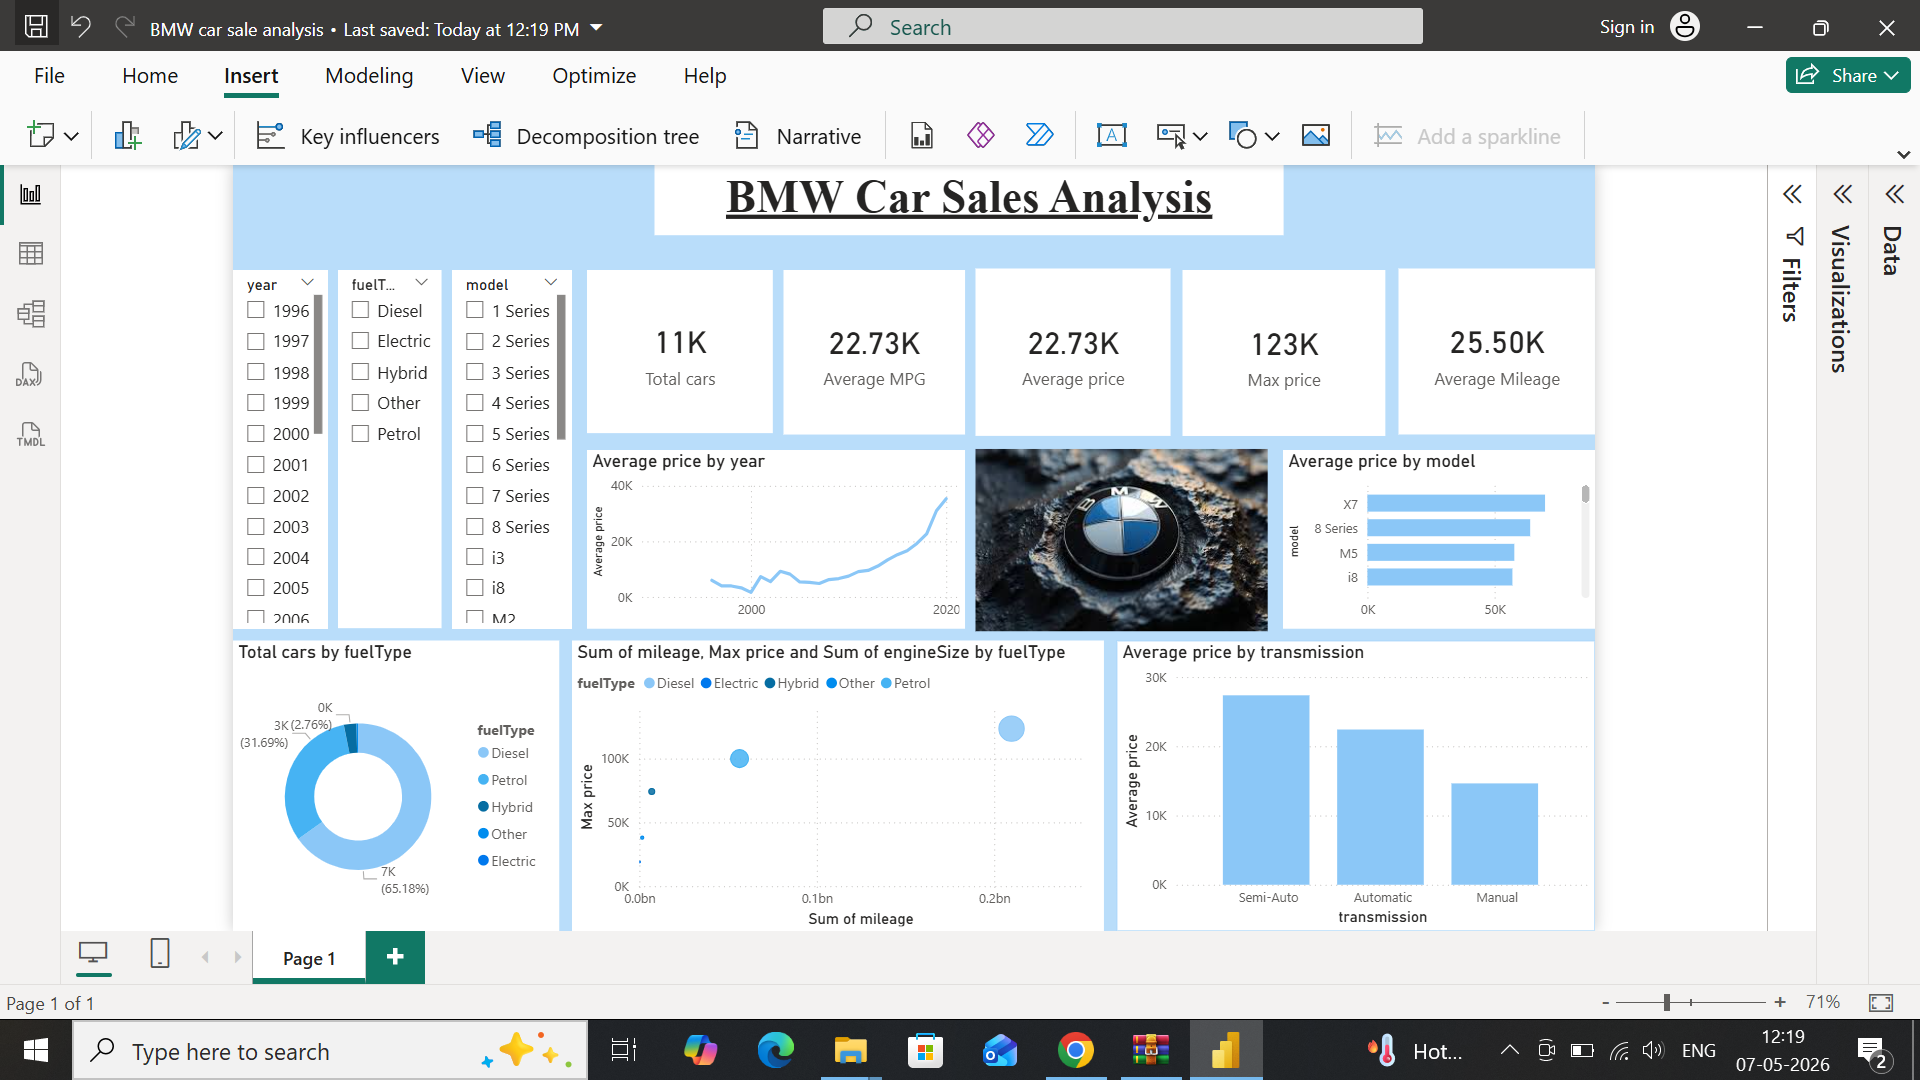

This screenshot's page, from the dashboard's own definition file:
{"tool":"powerbi","page":{"name":"Page 1","canvas":[1280,720],"ordinal":0},"visuals":[{"type":"card","fields":{"Values":["bmw (1).Total cars"]},"box":[332.3,98.8,174.8,153.3],"z":0},{"type":"card","fields":{"Values":["bmw (1).Average price"]},"box":[697.6,97.4,183.3,157.6],"z":1000},{"type":"card","fields":{"Values":["bmw (1).Average Mileage"]},"box":[1095.8,97.4,184.8,156.1],"z":2000},{"type":"card","fields":{"Values":["bmw (1).Average MPG"]},"box":[517.1,98.8,170.5,154.7],"z":3000},{"type":"card","fields":{"Values":["bmw (1).Max price"]},"box":[892.4,98.8,190.5,156.1],"z":4000},{"type":"clusteredBarChart","fields":{"Category":["bmw (1).model"],"Y":["bmw (1).Average price"]},"box":[999.4,268,280.1,205.9],"z":5000},{"type":"donutChart","fields":{"Y":["bmw (1).Total cars"],"Category":["bmw (1).fuelType"]},"box":[0,473.9,305.9,246.8],"z":6000},{"type":"columnChart","fields":{"Category":["bmw (1).transmission"],"Y":["bmw (1).Average price"]},"box":[831.3,486.1,449.7,234.7],"z":7000},{"type":"scatterChart","fields":{"X":["Sum(bmw (1).mileage)"],"Y":["bmw (1).Max price"],"Size":["Sum(bmw (1).engineSize)"],"Series":["bmw (1).fuelType"]},"box":[318,486.1,499.7,234.7],"z":8000},{"type":"lineChart","fields":{"Category":["bmw (1).year"],"Y":["bmw (1).Average price"]},"box":[332.7,267.9,345.4,205.9],"z":9000},{"type":"slicer","fields":{"Values":["bmw (1).year"]},"box":[0,98.4,89.3,360.4],"z":10000},{"type":"slicer","fields":{"Values":["bmw (1).fuelType"]},"box":[98.4,98.4,98.4,360.4],"z":11000},{"type":"slicer","fields":{"Values":["bmw (1).model"]},"box":[205.9,98.4,112.1,360.4],"z":12000},{"type":"textbox","box":[396.8,0,591.6,65.9],"z":13000},{"type":"image","box":[692,260.4,292.2,219.6],"z":16000}]}

Visuals, with their boxes on the page's 1280x720 design canvas (x1, y1, x2, y2). These are canvas units, not pixel positions in the 1920x1080 screenshot, which may show the page scaled, cropped or inside an application window:
card - bmw (1).Total cars: box(332, 99, 507, 252)
card - bmw (1).Average price: box(698, 97, 881, 255)
card - bmw (1).Average Mileage: box(1096, 97, 1281, 254)
card - bmw (1).Average MPG: box(517, 99, 688, 254)
card - bmw (1).Max price: box(892, 99, 1083, 255)
clusteredBarChart - bmw (1).model x bmw (1).Average price: box(999, 268, 1280, 474)
donutChart - bmw (1).Total cars x bmw (1).fuelType: box(0, 474, 306, 721)
columnChart - bmw (1).transmission x bmw (1).Average price: box(831, 486, 1281, 721)
scatterChart - Sum(bmw (1).mileage) x bmw (1).Max price: box(318, 486, 818, 721)
lineChart - bmw (1).year x bmw (1).Average price: box(333, 268, 678, 474)
slicer - bmw (1).year: box(0, 98, 89, 459)
slicer - bmw (1).fuelType: box(98, 98, 197, 459)
slicer - bmw (1).model: box(206, 98, 318, 459)
textbox: box(397, 0, 988, 66)
image: box(692, 260, 984, 480)
